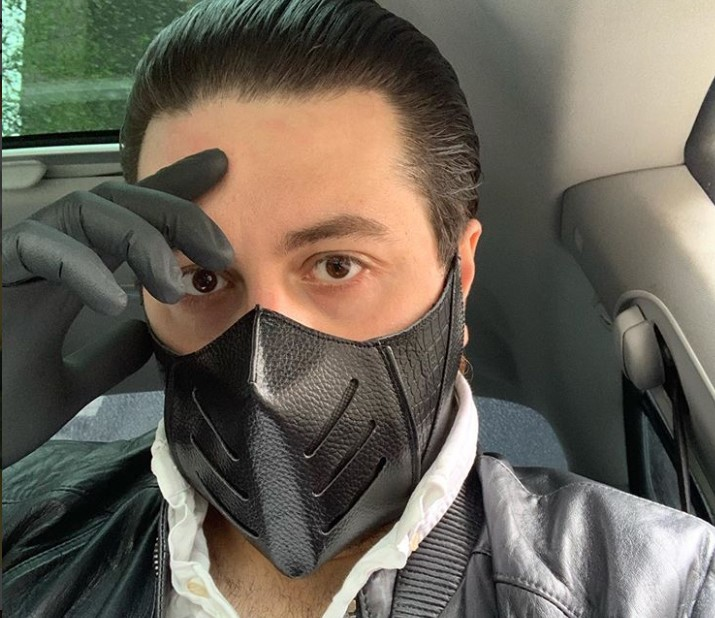face_with_mask: (114, 26, 495, 583)
